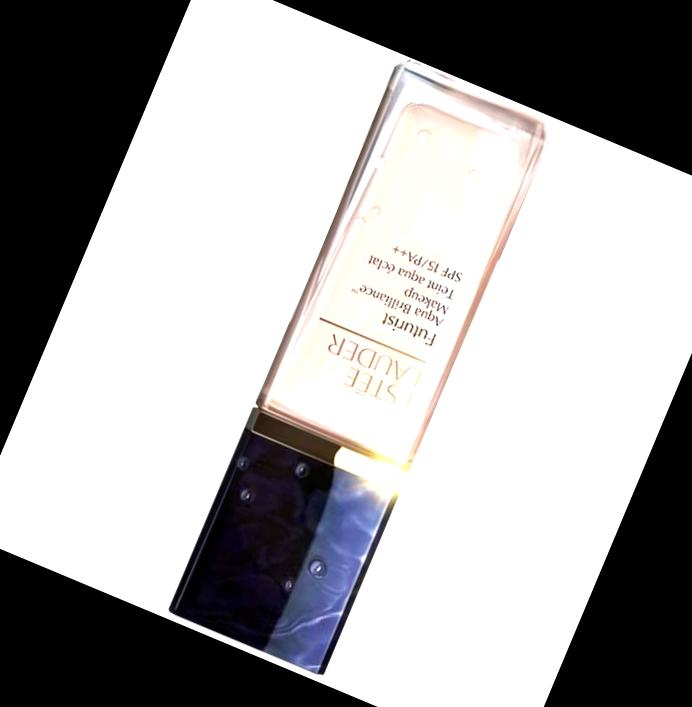cosmetic: (163, 55, 556, 678)
